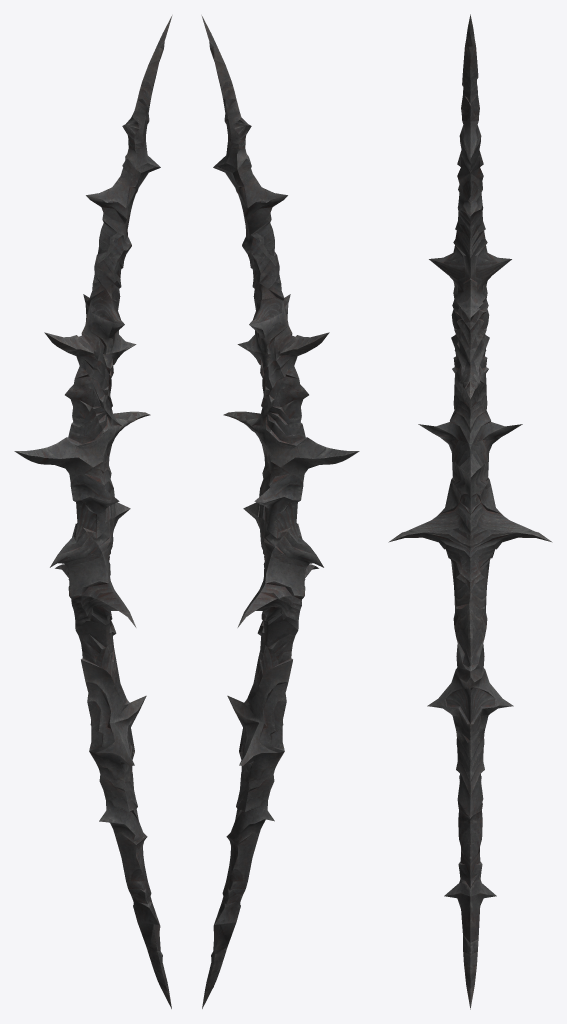
Rendered from bg_rad_kamen_pillar02lowpoly_sm_hhk.obj.
The picture shows the model from 3 angles, left to right: view 1: azimuth 30°, elevation 25°; view 2: azimuth 150°, elevation 25°; view 3: azimuth 270°, elevation 25°; orthographic projection.
Parts seen in each view (by area): view 1: bg_rad_kamen_pillar02lowpoly_sm_hhk_0; view 2: bg_rad_kamen_pillar02lowpoly_sm_hhk_0; view 3: bg_rad_kamen_pillar02lowpoly_sm_hhk_0.
Part boxes in pixels (box(x1,y1,x2,y2)): bg_rad_kamen_pillar02lowpoly_sm_hhk_0: box(14, 15, 172, 1008); bg_rad_kamen_pillar02lowpoly_sm_hhk_0: box(201, 15, 359, 1008); bg_rad_kamen_pillar02lowpoly_sm_hhk_0: box(388, 14, 552, 1009).
Size of the model in its own units: 1.6 by 9.6 by 1.44.
1 material, 1 textured.
